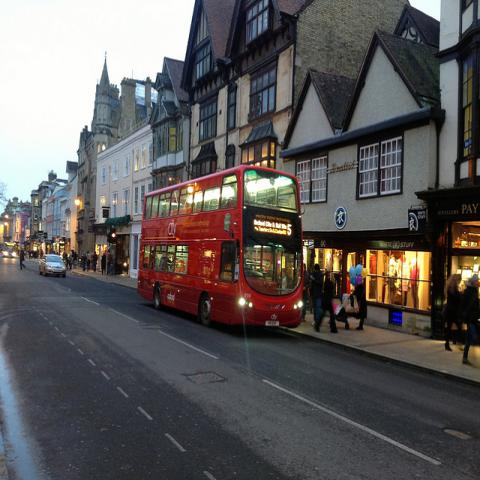bus: (134, 165, 308, 330)
car: (39, 254, 67, 278), (2, 245, 17, 257)
